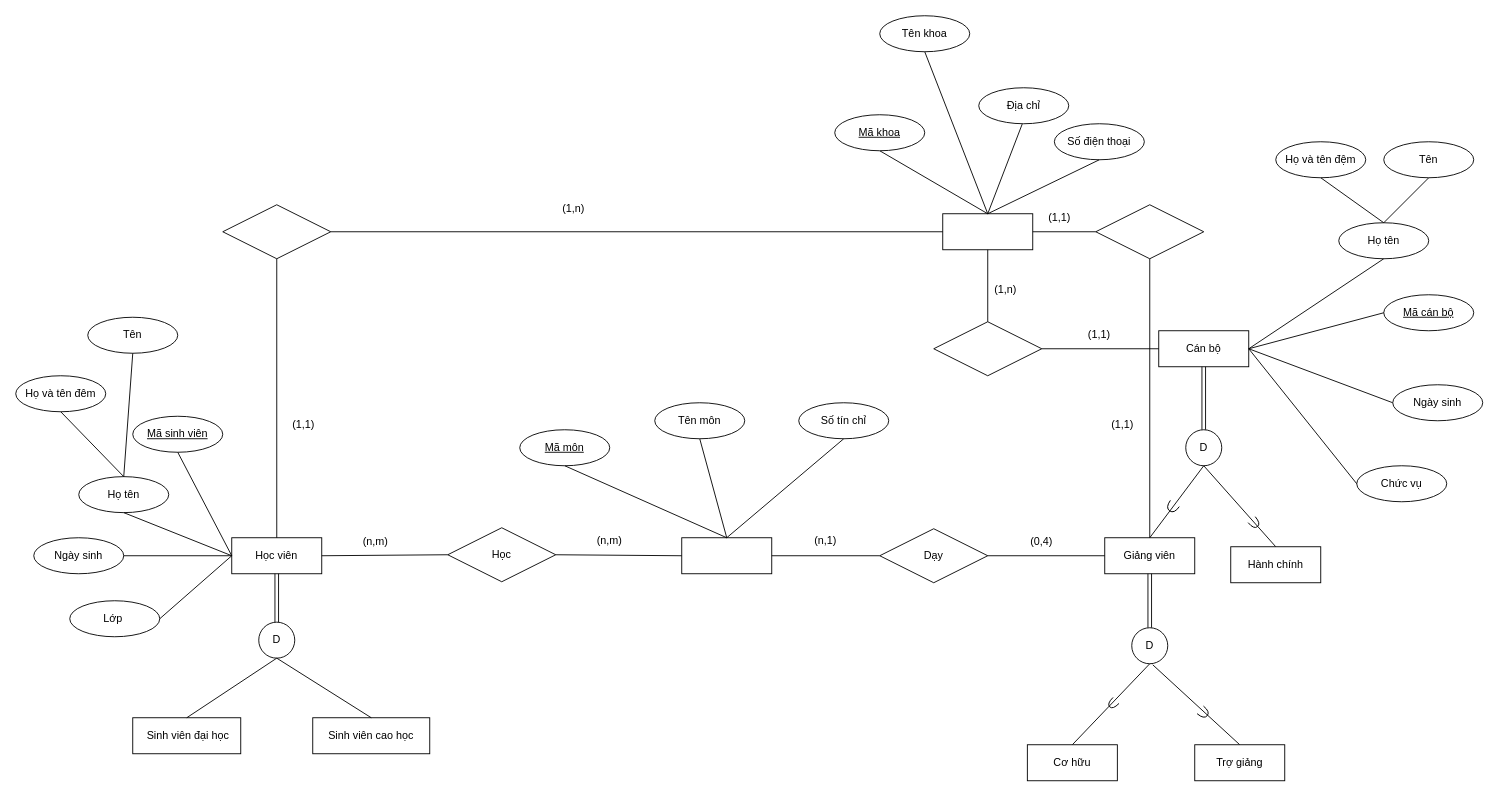
Some shapes in this 1499 by 797 pixel diagram are drawn without their labels. The shapes that lost their labels are listed below. From the top down, each one's centre as x and y in pixels, then its label:
the point at 276,231: Thuộc
the point at 987,231: Khoa
the point at 1149,231: Chủ nhiệm
the point at 987,348: Làm việc
the point at 726,555: Môn
